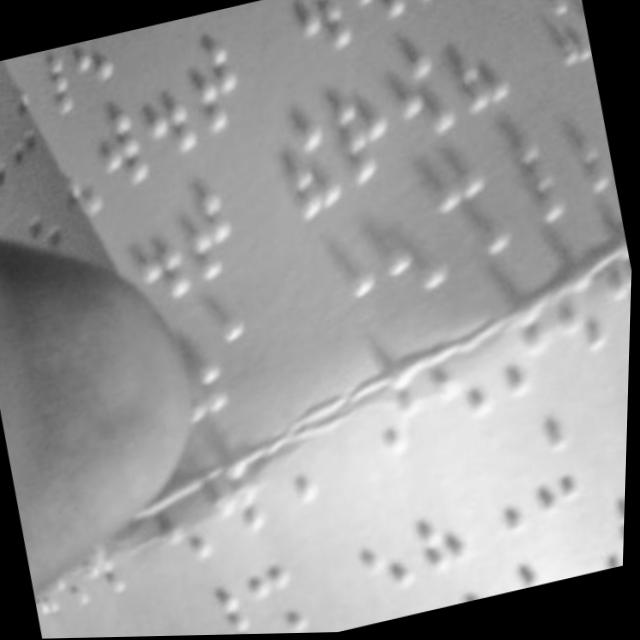braiile: (427, 166, 515, 278), (322, 78, 401, 200), (174, 28, 254, 144), (438, 16, 518, 130), (271, 108, 348, 226), (374, 198, 455, 310), (403, 473, 479, 587), (382, 40, 460, 150), (347, 496, 423, 608), (488, 138, 567, 243), (128, 62, 202, 174), (464, 440, 537, 549), (175, 182, 252, 285), (542, 102, 614, 208), (518, 419, 588, 524), (126, 209, 198, 311), (309, 235, 382, 335), (86, 100, 153, 197), (245, 559, 321, 635), (199, 580, 262, 636)
